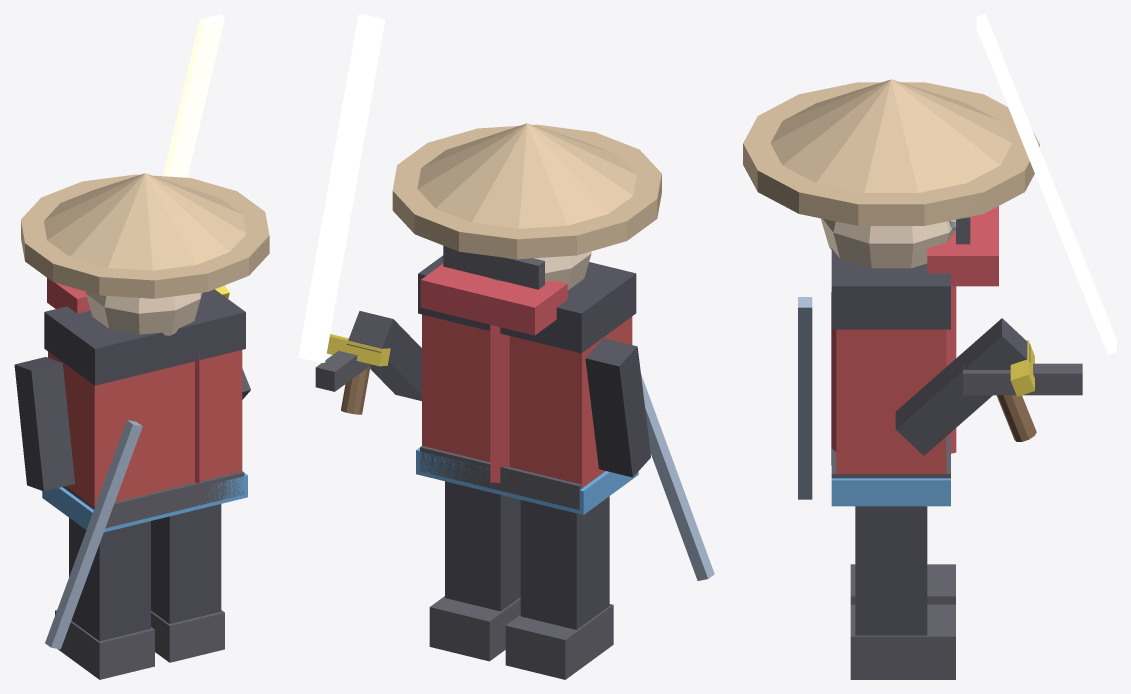
The model's file is ronin.glb.
The picture shows the model from 3 angles, left to right: view 1: azimuth 30°, elevation 25°; view 2: azimuth 150°, elevation 25°; view 3: azimuth 270°, elevation 25°; orthographic projection. The views are drawn at different scales.
Visible parts, largest first — view 1: ronin; view 2: ronin; view 3: ronin.
Part boxes in pixels (x1,y1,x2,y2): ronin: (14,14,269,679); ronin: (298,14,714,679); ronin: (743,14,1116,679).
Size of the model in its own units: 1.53 by 3.16 by 1.56.
